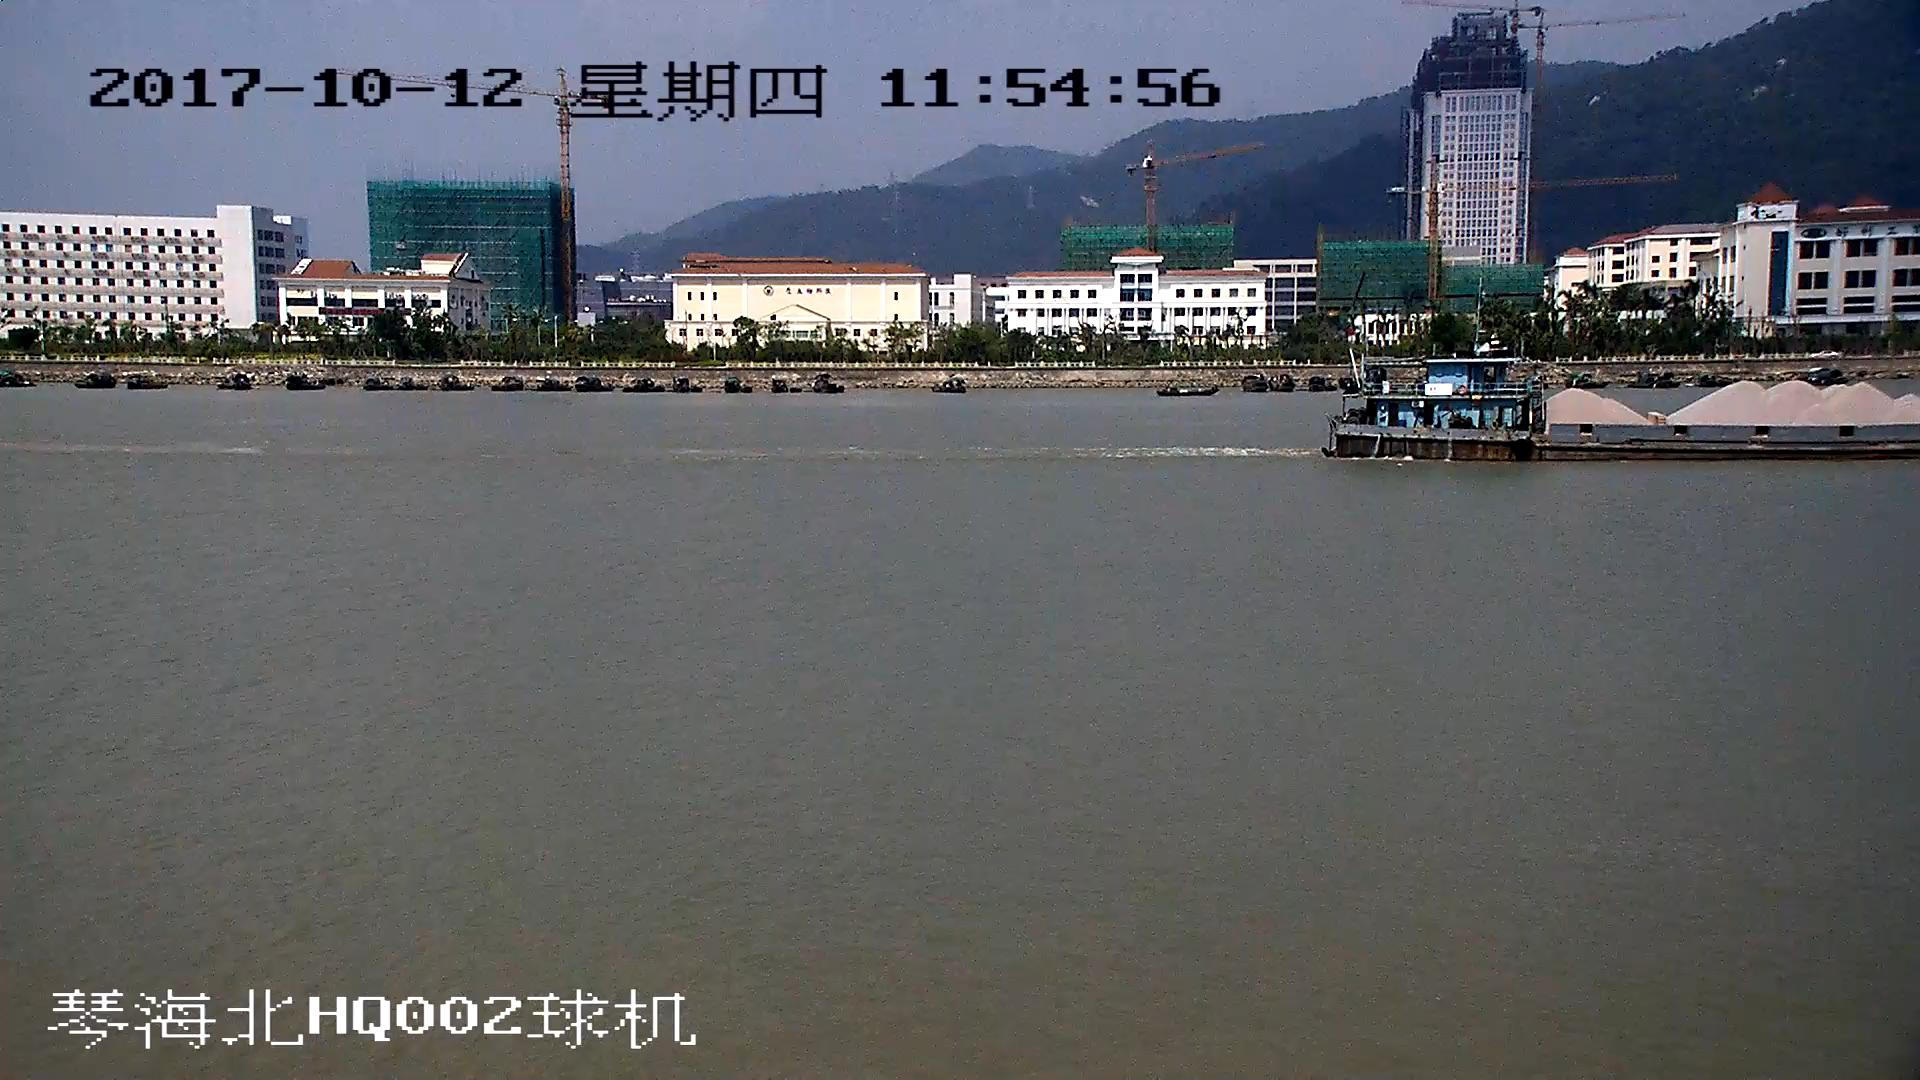ore carrier: (1327, 359, 1920, 462)
